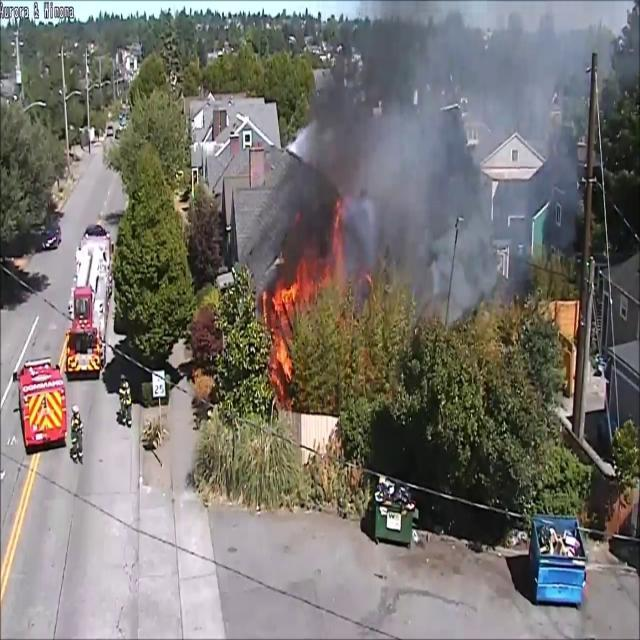Fire: (267, 263, 309, 375)
Smoke: (282, 2, 497, 316)
